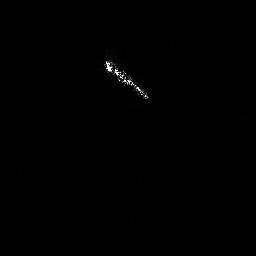ship: (100, 56, 152, 103)
